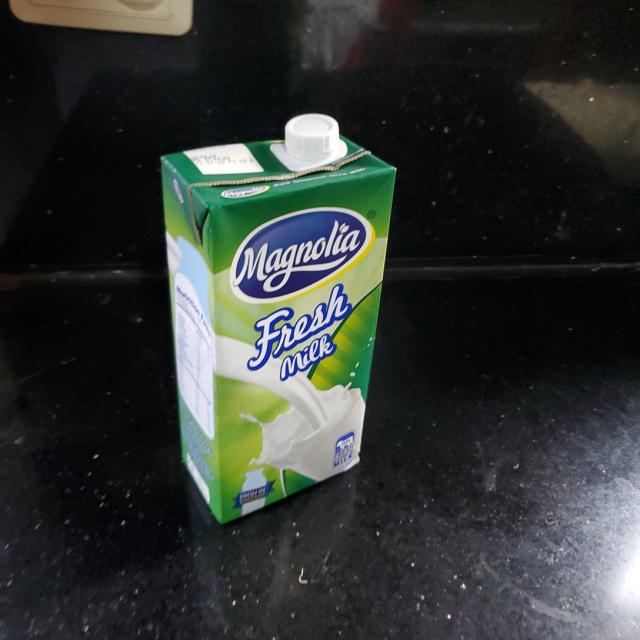milk: (162, 117, 397, 522)
